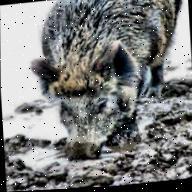boar: (16, 0, 192, 168)
